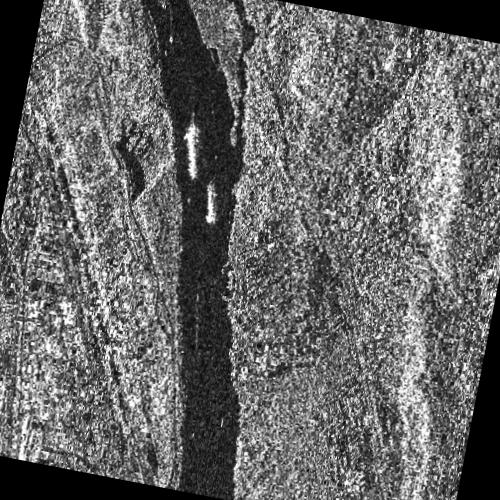ship: (184, 121, 200, 179), (205, 181, 217, 226)
